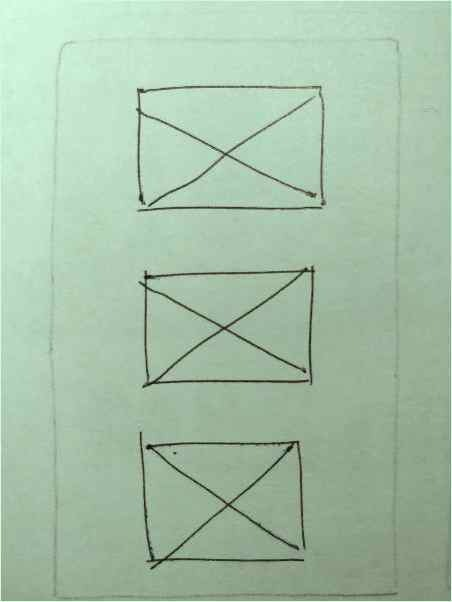image: (123, 69, 338, 224), (122, 419, 321, 576), (123, 252, 327, 399)
